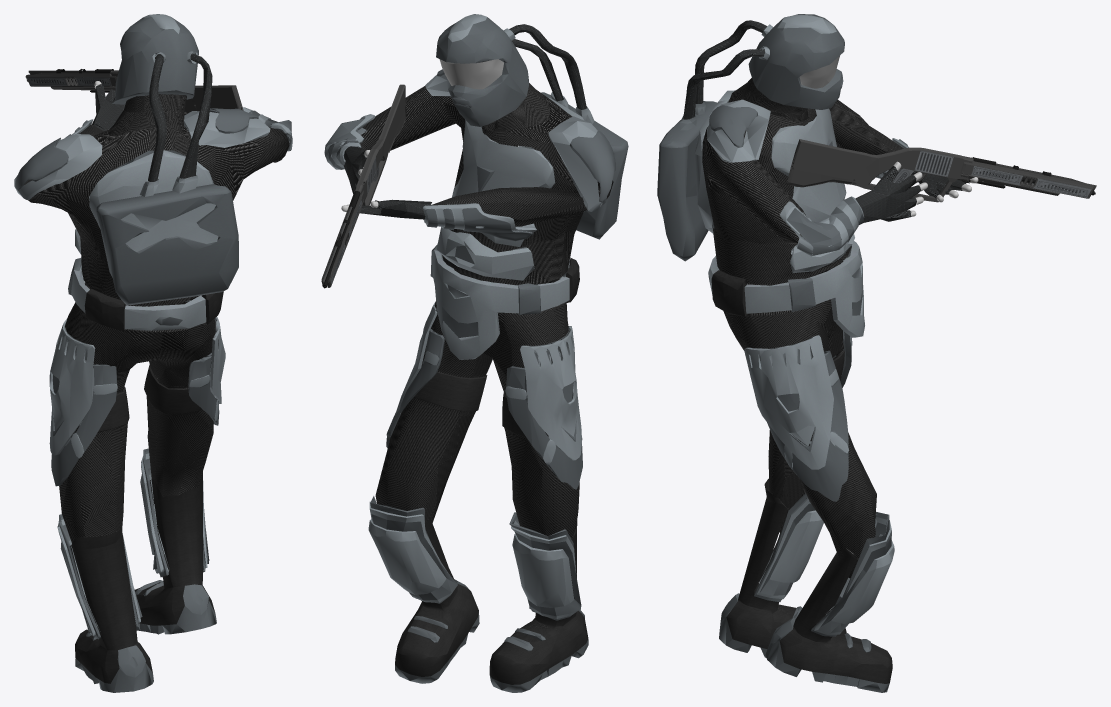
The picture shows the model from 3 angles, left to right: view 1: azimuth 30°, elevation 25°; view 2: azimuth 150°, elevation 25°; view 3: azimuth 270°, elevation 25°; orthographic projection. The views are drawn at different scales.
Visible parts, largest first — view 1: personaje:extrudedSurface2 polySurface62, personaje:PANTALON polySurface62, personaje:bota1 polySurface62, personaje:CAMISETABUENA polySurface62, personaje:pPipe4 polySurface62, personaje:pCube4 polySurface62, personaje:cosoarmdaurapierna1 polySurface62, personaje:cinturon polySurface62, escopeta:Cylinder001 polySurface62, personaje:armadbota1 polySurface62, personaje:polySurface6 polySurface62, personaje:polySurface11 polySurface62 (+3 smaller); view 2: personaje:PANTALON polySurface62, personaje:CAMISETABUENA polySurface62, personaje:pPipe4 polySurface62, personaje:bota1 polySurface62, personaje:extrudedSurface2 polySurface62, personaje:cinturon polySurface62, personaje:armadbota1 polySurface62, personaje:pCube4 polySurface62, personaje:cosoarmdaurapierna1 polySurface62, escopeta:Cylinder001 polySurface62, personaje:polySurface6 polySurface62, personaje:HOMBRO2 polySurface62 (+7 smaller); view 3: personaje:CAMISETABUENA polySurface62, personaje:bota1 polySurface62, personaje:extrudedSurface2 polySurface62, personaje:pPipe4 polySurface62, personaje:pCube4 polySurface62, personaje:PANTALON polySurface62, escopeta:Cylinder001 polySurface62, personaje:cinturon polySurface62, personaje:armadbota1 polySurface62, personaje:cosoarmadurapierna2 polySurface62, personaje:hombro1 polySurface62, personaje:partearmdBRAZO2 polySurface62 (+1 smaller).
Part boxes in pixels (x1,y1,x2,y2): personaje:extrudedSurface2 polySurface62: (96, 14, 238, 305); personaje:PANTALON polySurface62: (59, 283, 215, 542); personaje:bota1 polySurface62: (71, 471, 216, 692); personaje:CAMISETABUENA polySurface62: (24, 94, 289, 332); personaje:pPipe4 polySurface62: (14, 84, 291, 254); personaje:pCube4 polySurface62: (51, 300, 225, 639); personaje:cosoarmdaurapierna1 polySurface62: (49, 318, 117, 458); personaje:cinturon polySurface62: (68, 257, 223, 331); escopeta:Cylinder001 polySurface62: (25, 69, 243, 115); personaje:armadbota1 polySurface62: (57, 453, 207, 636); personaje:polySurface6 polySurface62: (97, 365, 202, 432); personaje:polySurface11 polySurface62: (148, 54, 166, 181); personaje:PANTALON polySurface62: (375, 269, 579, 539); personaje:CAMISETABUENA polySurface62: (360, 61, 613, 312); personaje:pPipe4 polySurface62: (325, 74, 606, 280); personaje:bota1 polySurface62: (395, 518, 588, 692); personaje:extrudedSurface2 polySurface62: (436, 14, 628, 239); personaje:cinturon polySurface62: (430, 238, 579, 359); personaje:armadbota1 polySurface62: (368, 501, 578, 618); personaje:pCube4 polySurface62: (370, 302, 582, 620); personaje:cosoarmdaurapierna1 polySurface62: (505, 326, 582, 464); escopeta:Cylinder001 polySurface62: (321, 84, 406, 288); personaje:polySurface6 polySurface62: (414, 371, 526, 437); personaje:HOMBRO2 polySurface62: (570, 131, 615, 201); personaje:CAMISETABUENA polySurface62: (702, 78, 903, 315); personaje:bota1 polySurface62: (719, 478, 892, 692); personaje:extrudedSurface2 polySurface62: (657, 14, 844, 261); personaje:pPipe4 polySurface62: (694, 90, 969, 273); personaje:pCube4 polySurface62: (744, 332, 891, 636); personaje:PANTALON polySurface62: (723, 255, 876, 578); escopeta:Cylinder001 polySurface62: (787, 139, 1096, 202); personaje:cinturon polySurface62: (708, 241, 864, 337); personaje:armadbota1 polySurface62: (756, 497, 894, 634); personaje:cosoarmadurapierna2 polySurface62: (759, 350, 848, 501); personaje:hombro1 polySurface62: (709, 105, 757, 147); personaje:partearmdBRAZO2 polySurface62: (779, 196, 864, 256).
Size of the model in its own units: 4.26 by 9.59 by 5.71.
